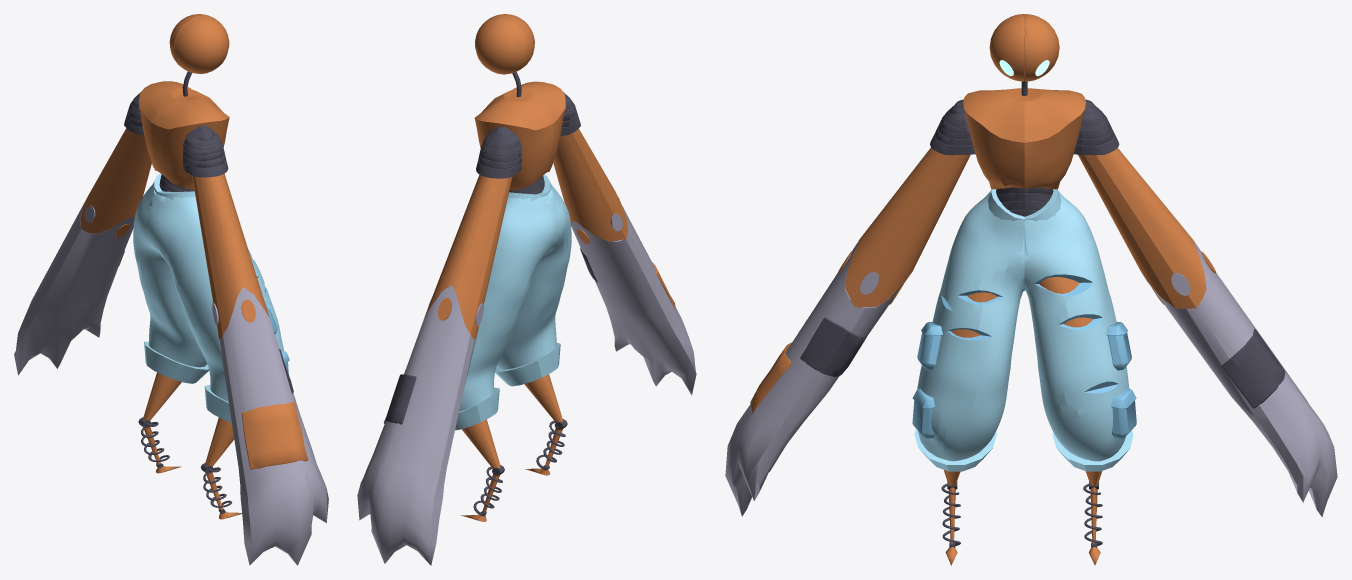
File: robot rig test.fbx
The picture shows the model from 3 angles, left to right: view 1: azimuth 30°, elevation 25°; view 2: azimuth 150°, elevation 25°; view 3: azimuth 270°, elevation 25°; orthographic projection. The views are drawn at different scales.
Visible parts, largest first — view 1: Cylinder.034; view 2: Cylinder.034; view 3: Cylinder.034.
Boxes of the visible parts, bbox=[...] form: Cylinder.034: bbox=[14, 14, 328, 565]; Cylinder.034: bbox=[357, 14, 696, 565]; Cylinder.034: bbox=[725, 14, 1337, 565].
Size of the model in its own units: 147 by 534 by 547.
